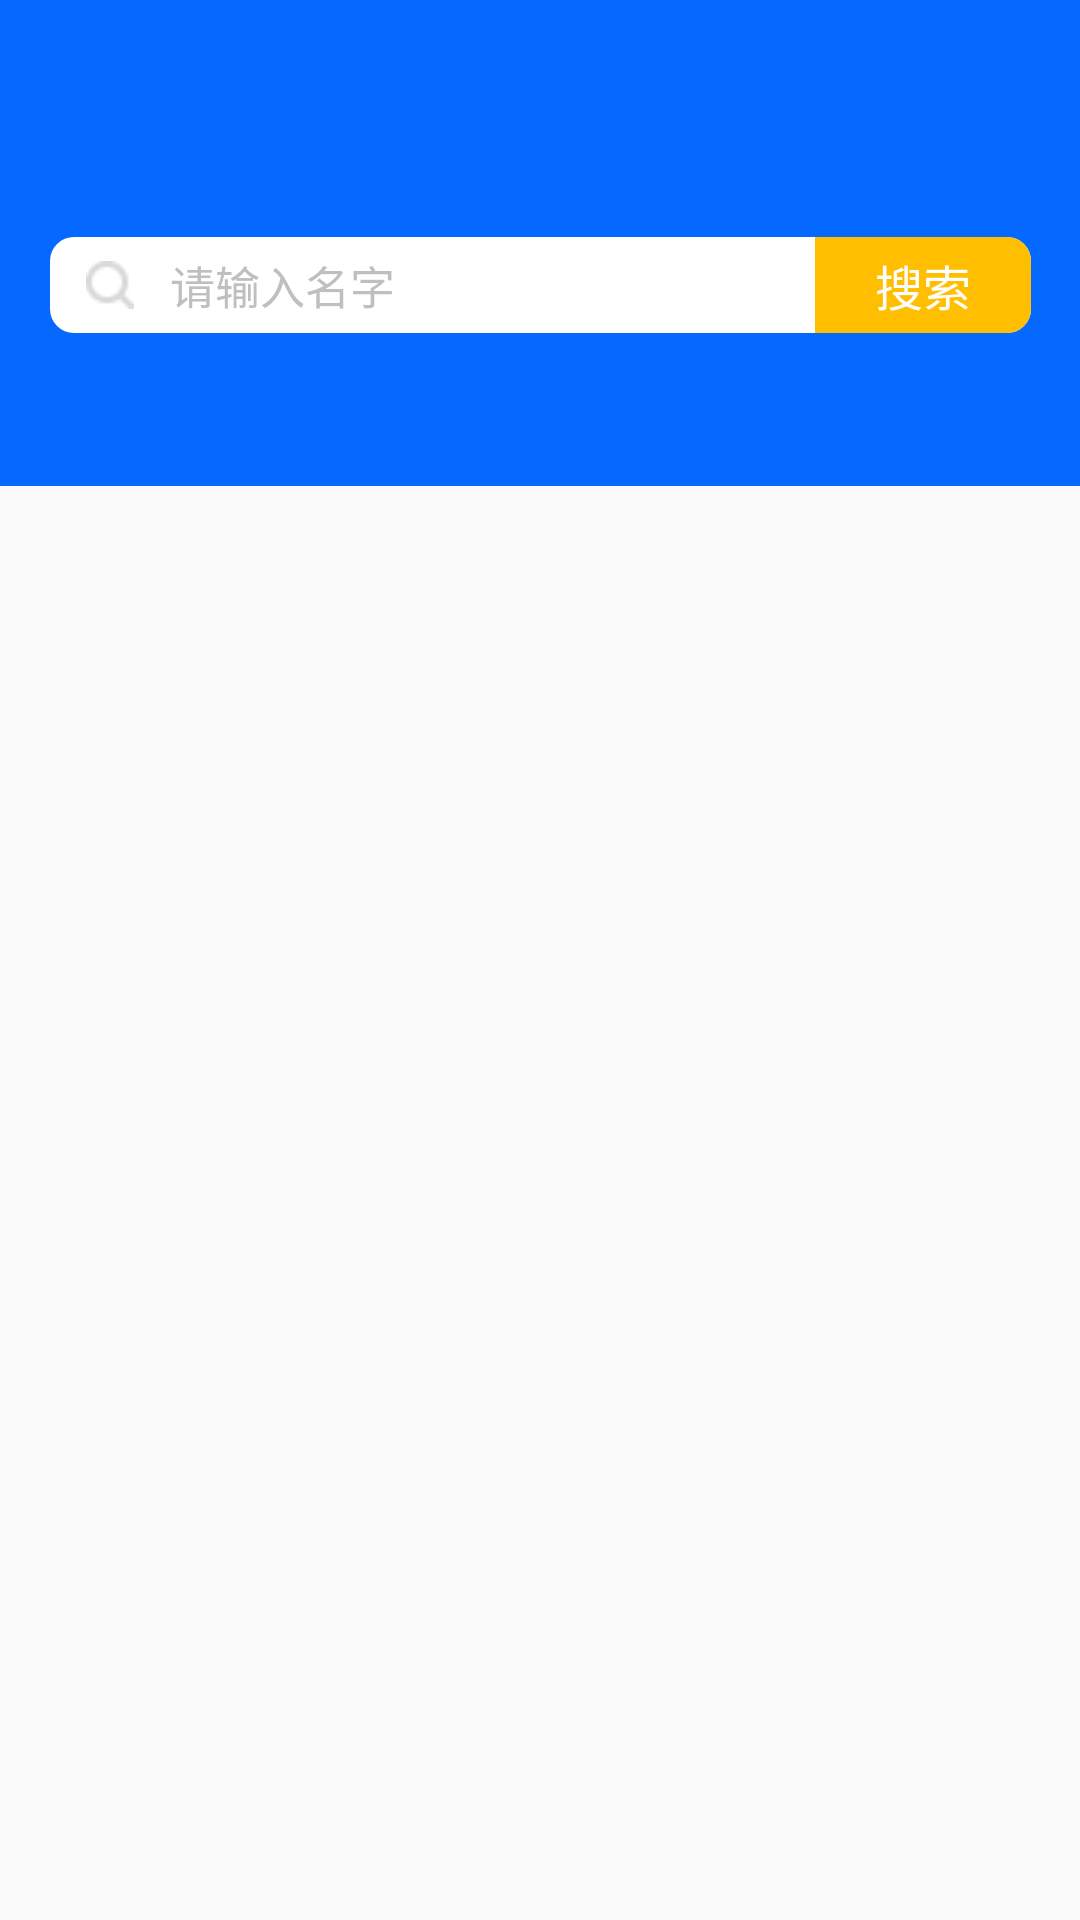

Named icons in this screenshot (1080×1920) and their centers, point (x, y):
search: point (110, 285)
